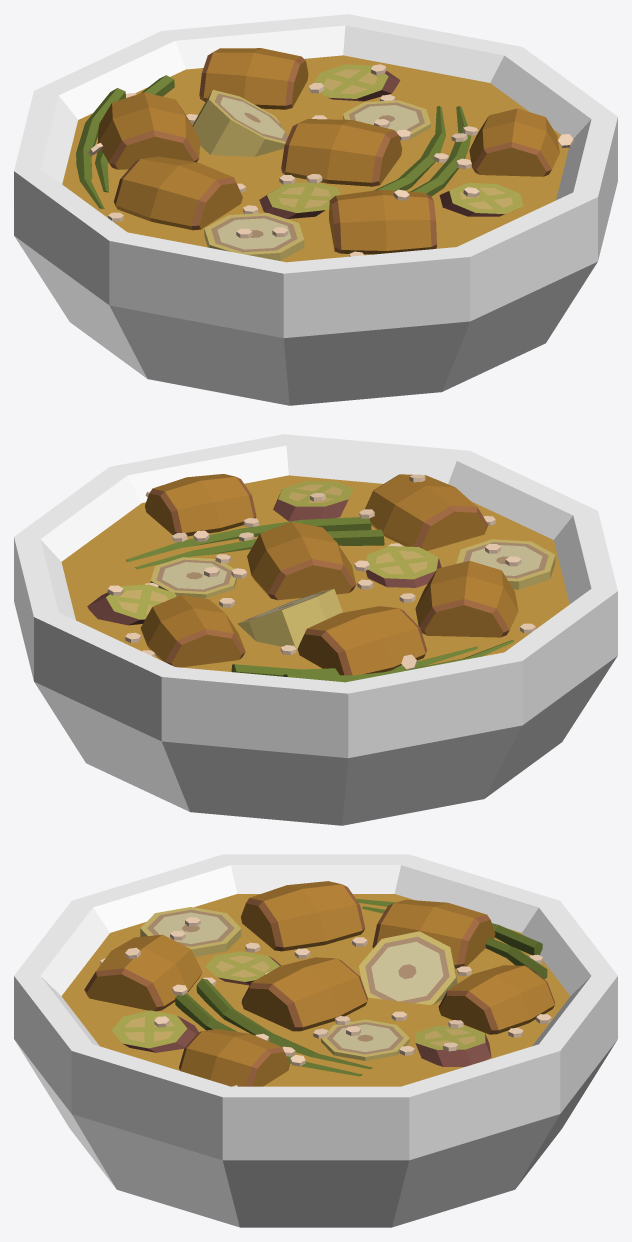
File: FINAL_Traditional Karekare.fbx
3 renders of one model, top to bottom at view 1: azimuth 30°, elevation 25°; view 2: azimuth 150°, elevation 25°; view 3: azimuth 270°, elevation 25°, orthographic. The views are drawn at different scales.
Parts seen in each view (by area): view 1: Traditional Kare-Kare; view 2: Traditional Kare-Kare; view 3: Traditional Kare-Kare.
Part boxes in pixels (x1,y1,x2,y2): Traditional Kare-Kare: [14, 14, 617, 405]; Traditional Kare-Kare: [14, 434, 617, 825]; Traditional Kare-Kare: [14, 854, 617, 1227].
Bounding box in the file's own units: 106 × 43 × 111.
